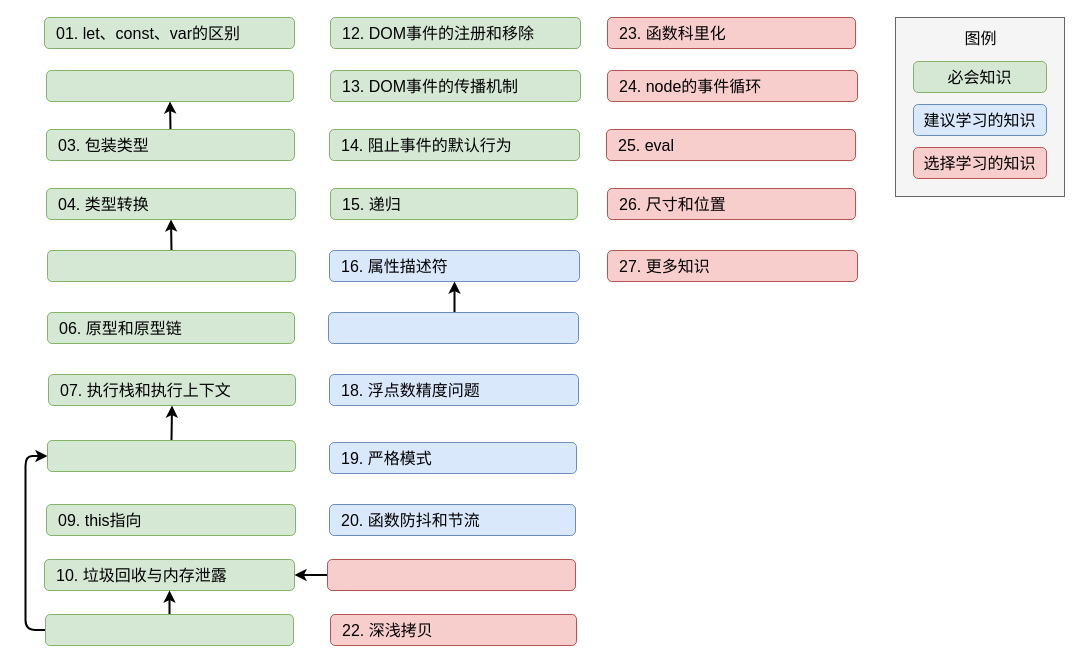
Image size: 1082x663. Some labels were removed from this diagram. The shapes that lost their labels are listed below. From the top down, each one's centre as x and y in pixels, then its label:
(170,86): 02. 值和引用
(171,266): 05. 运算符
(453,328): 17. class和普通构造器的区别
(171,456): 08. 作用域和作用域链
(451,574): 21. WeakSet和WeakMap
(169,630): 11. 闭包
